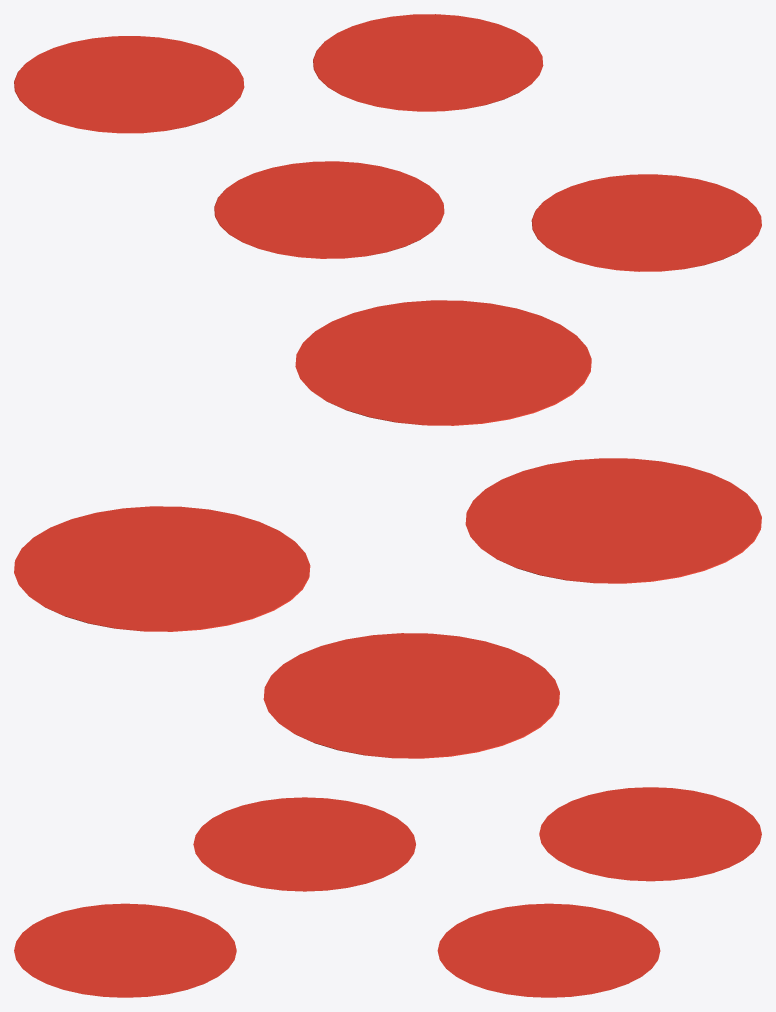
Rendered from Blood.fbx.
3 renders of one model, top to bottom at view 1: azimuth 30°, elevation 25°; view 2: azimuth 150°, elevation 25°; view 3: azimuth 270°, elevation 25°, orthographic. The views are drawn at different scales.
Visible parts, largest first — view 1: Sphere.003, Sphere, Sphere.002, Sphere.001; view 2: Sphere, Sphere.002, Sphere.001, Sphere.003; view 3: Sphere.003, Sphere, Sphere.002, Sphere.001.
Boxes of the visible parts, x1,y1,x2,y2 form: Sphere.003: [214, 161, 444, 258]; Sphere: [531, 174, 761, 271]; Sphere.002: [14, 36, 244, 133]; Sphere.001: [313, 14, 543, 111]; Sphere: [295, 300, 591, 425]; Sphere.002: [263, 633, 559, 758]; Sphere.001: [14, 506, 310, 631]; Sphere.003: [465, 458, 761, 583]; Sphere.003: [193, 797, 415, 891]; Sphere: [14, 903, 236, 997]; Sphere.002: [539, 787, 761, 881]; Sphere.001: [437, 903, 660, 997].
Bounding box in the file's own units: 414 × 0.3165 × 620.
